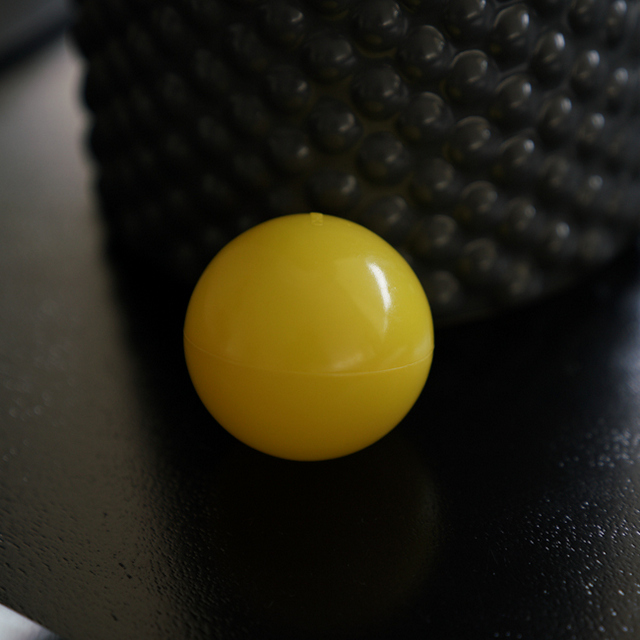Ball: (187, 217, 438, 459)
